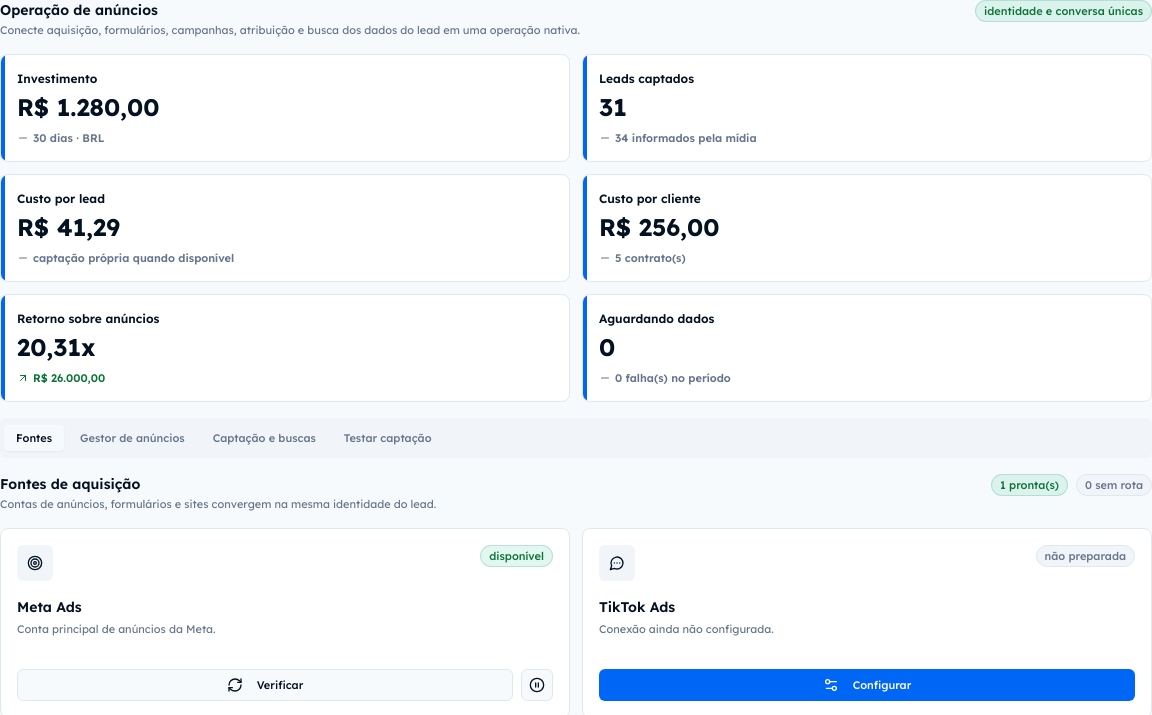
AcquisitionIntegrationsPanel › sends a provider-shaped raw payload into the canonical local capture route
The width and height of the screenshot is (1152, 715).
Check: the text "Conta principal de anúncios da Meta." is shown, box [17, 622, 216, 636]
Press the mouse on the tab "Testar captação": (388,438) [332, 425, 444, 451]
(page scrolled)
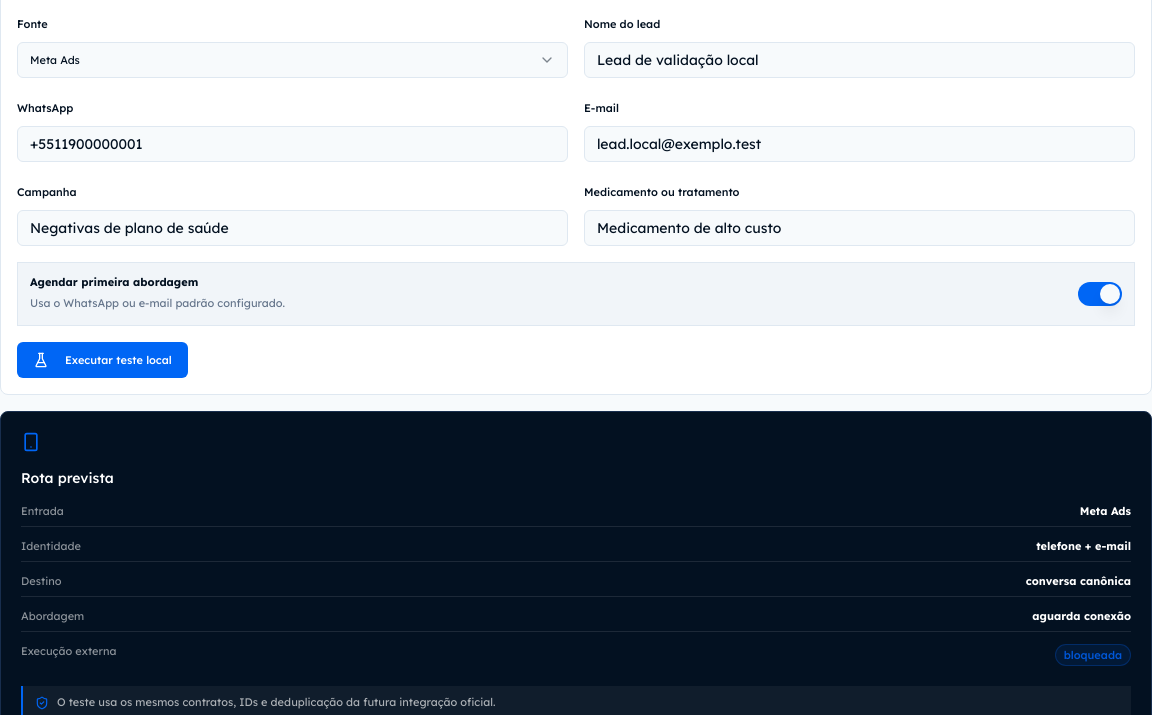
Click the button "Executar teste local": (102,360) [17, 342, 188, 378]
(page scrolled)
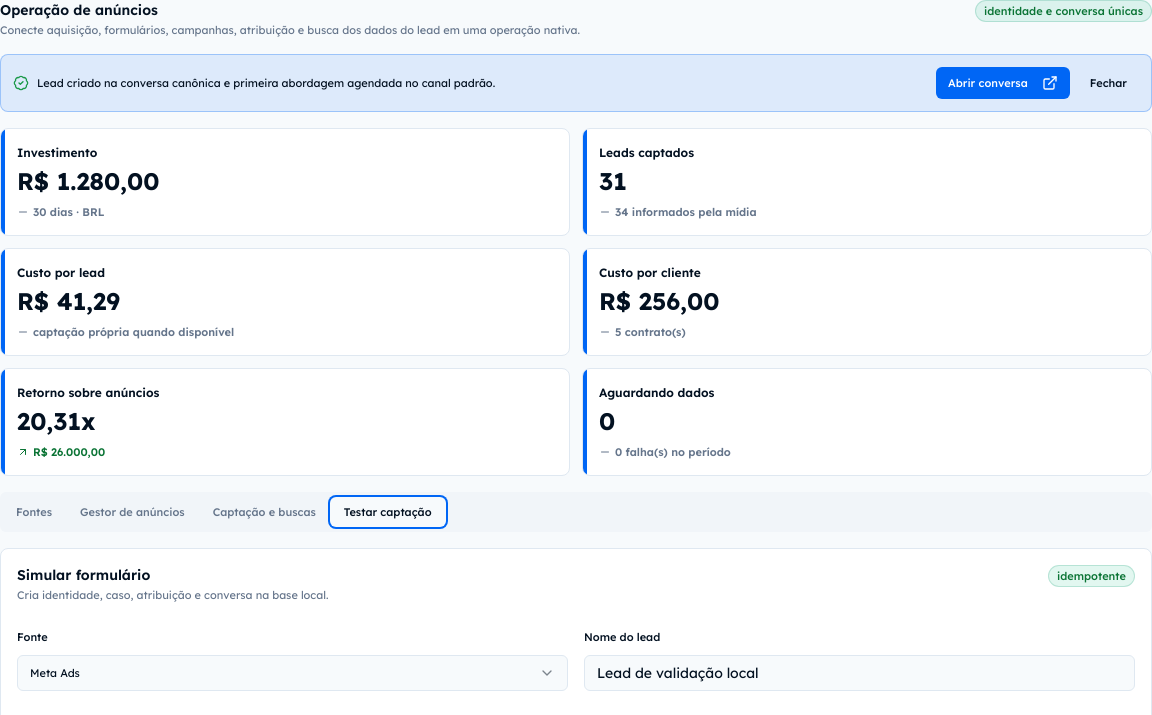
Check: the text "primeira abordagem agendada" is shown, box [37, 76, 495, 90]
